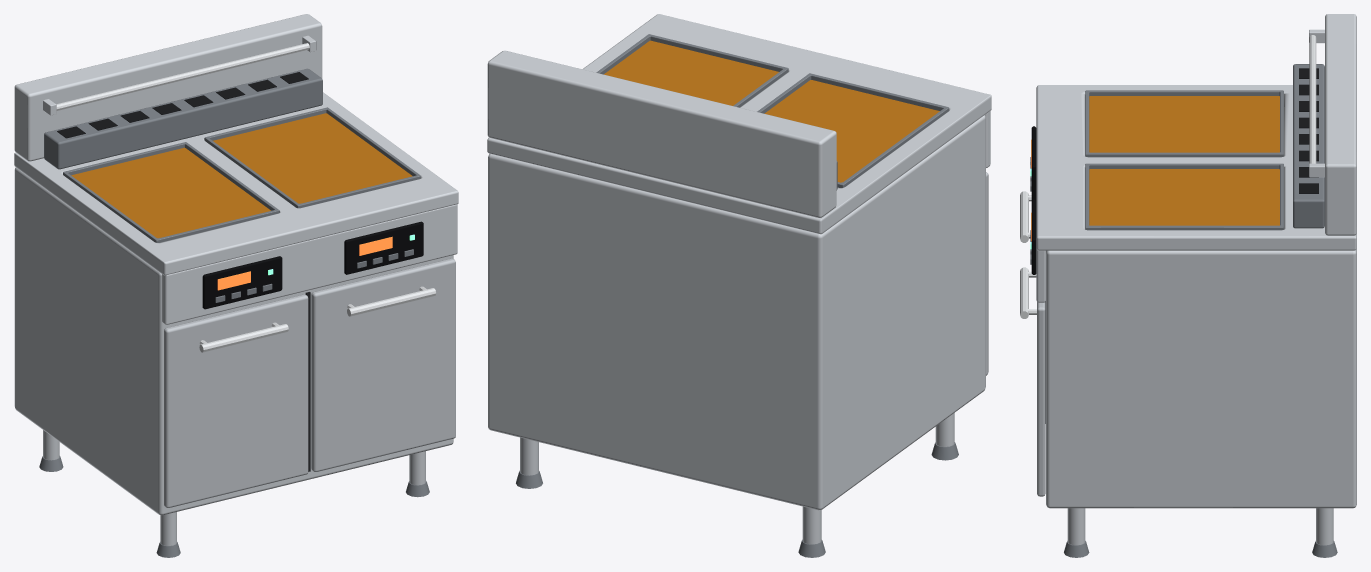
File: fryer.glb
3 views of the same model, side by side, from view 1: azimuth 30°, elevation 25°; view 2: azimuth 150°, elevation 25°; view 3: azimuth 270°, elevation 25° (orthographic). The views are drawn at different scales.
Parts seen in each view (by area): view 1: BODY; view 2: BODY; view 3: BODY.
Boxes of the visible parts, <box> form: BODY: <box>14,14,458,557</box>; BODY: <box>487,14,991,557</box>; BODY: <box>1020,14,1356,557</box>.
Bounding box in the file's own units: 0.9001 × 1.1 × 0.841.
